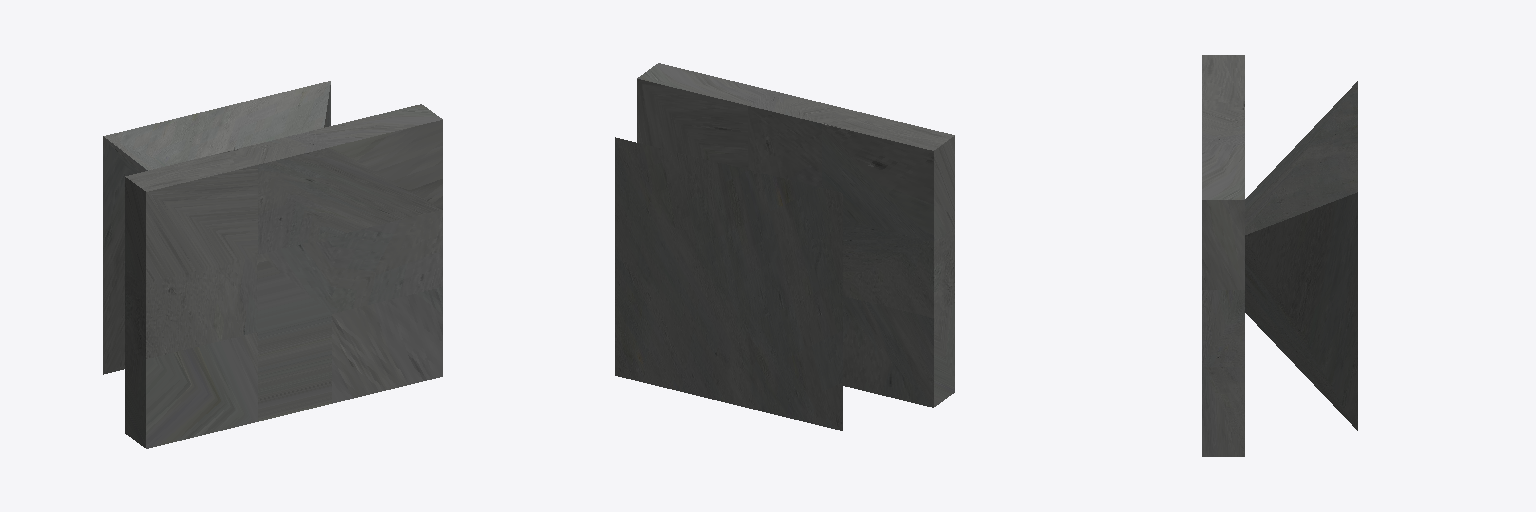
3 views of the same model, side by side, from view 1: azimuth 30°, elevation 25°; view 2: azimuth 150°, elevation 25°; view 3: azimuth 270°, elevation 25° (orthographic).
Parts seen in each view (by area): view 1: pCube11; view 2: pCube11; view 3: pCube11.
Boxes of the visible parts, box(x1,y1,x2,y2) form: pCube11: box(103, 81, 442, 448); pCube11: box(615, 63, 954, 430); pCube11: box(1202, 55, 1357, 456).
Size of the model in its own units: 1.07 by 0.8878 by 0.4853.
Materials: 1 (1 with a texture image).